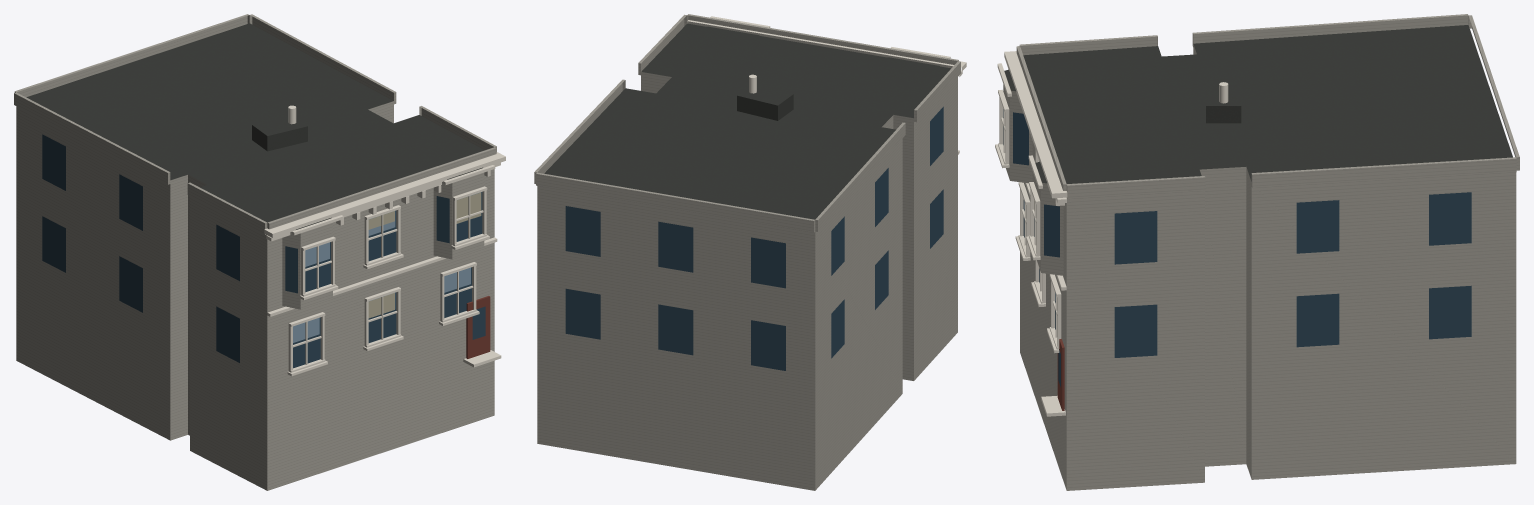
3 renders of one model, left to right at view 1: azimuth 30°, elevation 25°; view 2: azimuth 150°, elevation 25°; view 3: azimuth 270°, elevation 25°, orthographic. The views are drawn at different scales.
Visible parts, largest first — view 1: Footprint 0 / surface 2, Footprint 0 / surface 1, Facade bay volumes, Inset glazing, Cornices and window frames, Sky reflection panels, Interior blind variation, Storefronts and doors, Inferred rooftop service enclosure / surface 5, Inferred rooftop service enclosure / surface 3; view 2: Footprint 0 / surface 2, Footprint 0 / surface 1, Inset glazing, Facade bay volumes, Cornices and window frames, Inferred rooftop service enclosure / surface 6, Inferred rooftop service enclosure / surface 3; view 3: Footprint 0 / surface 2, Footprint 0 / surface 1, Inset glazing, Facade bay volumes, Cornices and window frames, Inferred rooftop service enclosure / surface 3, Inferred rooftop service enclosure / surface 1.
Part boxes in pixels (x1,y1,x2,y2): Footprint 0 / surface 2: (16, 101, 494, 490); Footprint 0 / surface 1: (26, 23, 484, 222); Facade bay volumes: (14, 14, 496, 309); Inset glazing: (42, 134, 485, 368); Cornices and window frames: (264, 152, 505, 376); Sky reflection panels: (293, 192, 480, 342); Interior blind variation: (368, 192, 481, 318); Storefronts and doors: (466, 296, 490, 358); Inferred rooftop service enclosure / surface 5: (267, 126, 307, 151); Inferred rooftop service enclosure / surface 3: (252, 116, 307, 135); Footprint 0 / surface 2: (537, 72, 957, 490); Footprint 0 / surface 1: (544, 23, 950, 219); Inset glazing: (565, 106, 943, 370); Facade bay volumes: (534, 14, 960, 232); Cornices and window frames: (687, 16, 966, 154); Inferred rooftop service enclosure / surface 6: (737, 95, 777, 120); Inferred rooftop service enclosure / surface 3: (737, 85, 793, 105); Footprint 0 / surface 2: (1020, 44, 1516, 490); Footprint 0 / surface 1: (1023, 25, 1512, 183); Inset glazing: (1003, 112, 1471, 387); Facade bay volumes: (1003, 14, 1519, 275); Cornices and window frames: (995, 51, 1067, 416); Inferred rooftop service enclosure / surface 3: (1206, 83, 1241, 105); Inferred rooftop service enclosure / surface 1: (1206, 106, 1241, 123).
Size of the model in its own units: 13.81 by 12.38 by 17.71.
